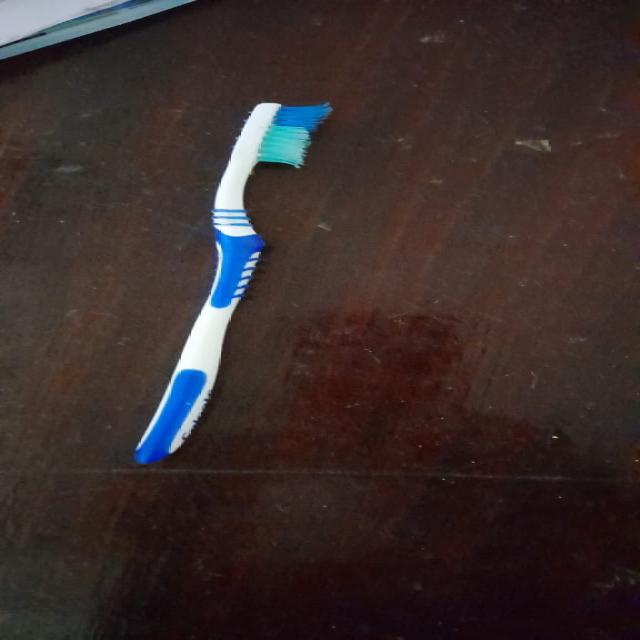Tooth_Brush - Non Recyclable: (129, 100, 335, 465)
